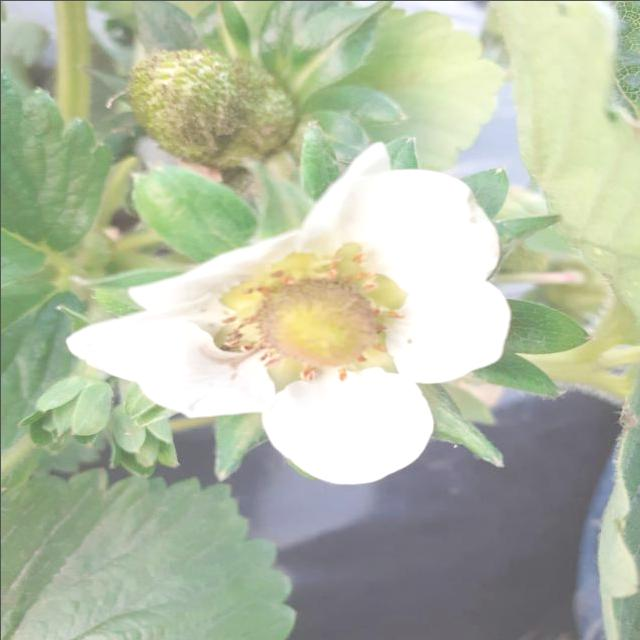flower: (71, 152, 504, 482)
